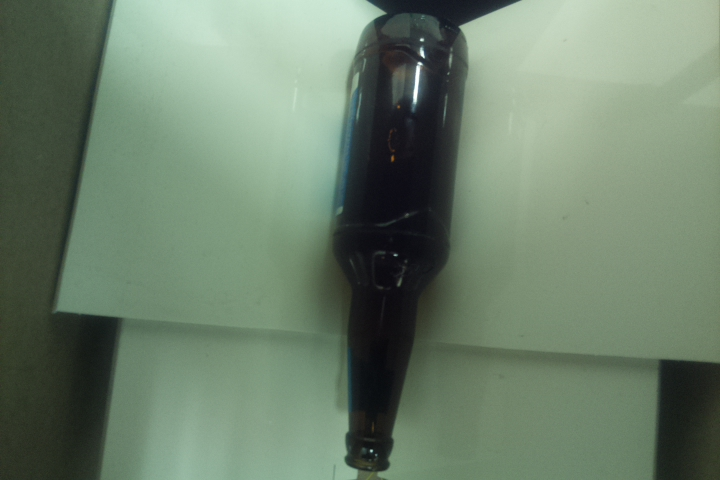makju: (325, 9, 471, 473)
